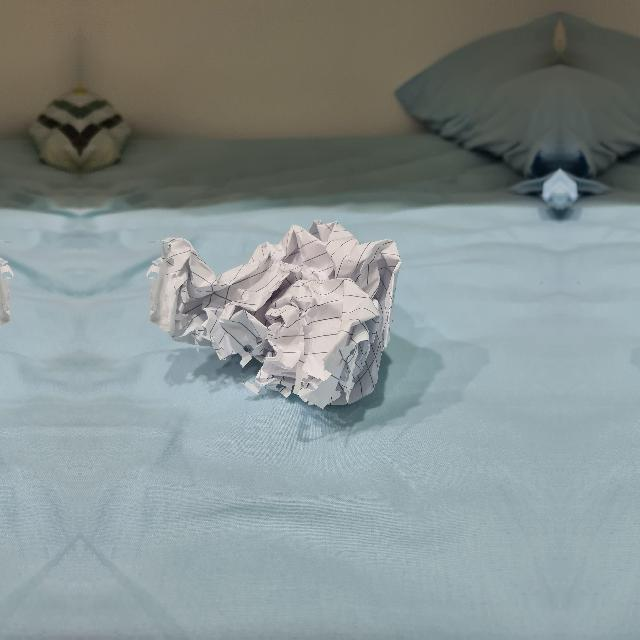paper: (152, 224, 402, 406), (0, 223, 8, 406)
